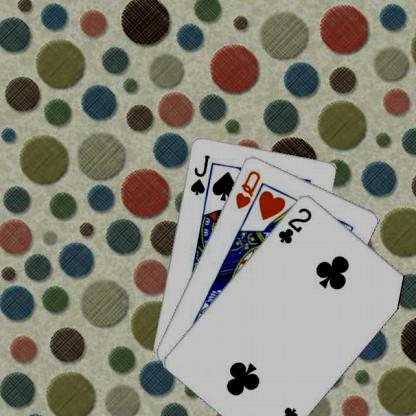2C: (275, 205, 313, 245), (261, 403, 299, 416)
JS: (187, 152, 211, 196)
QH: (232, 167, 262, 210)
